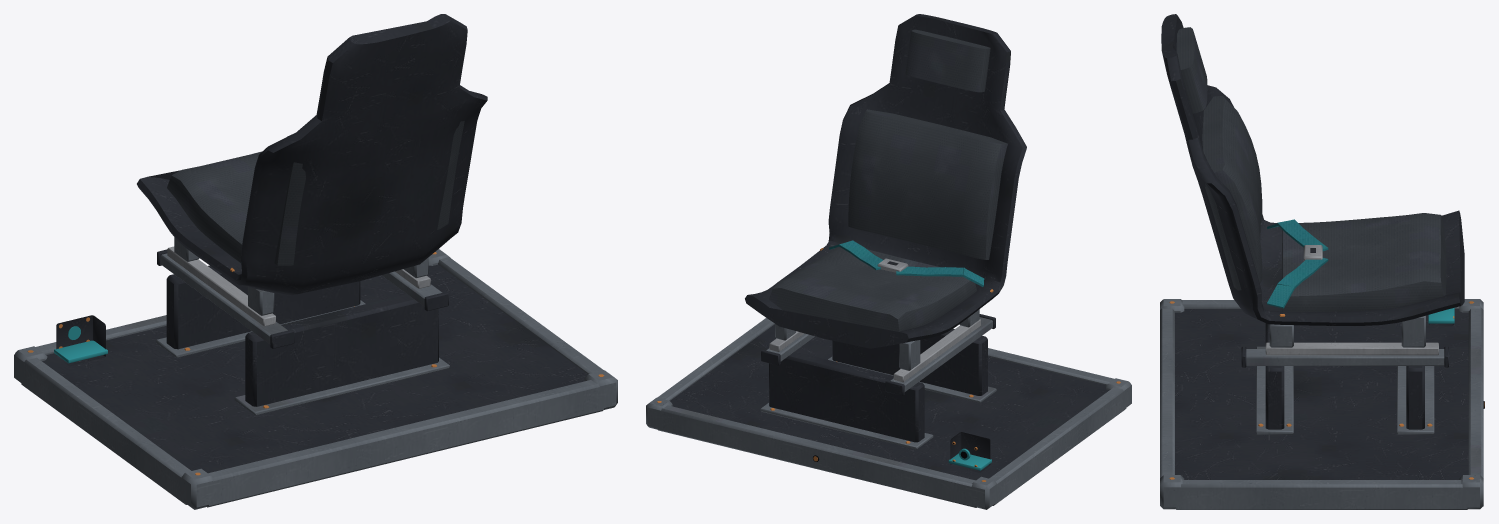
File: passenger_seat_1.glb
3 views of the same model, side by side, from view 1: azimuth 30°, elevation 25°; view 2: azimuth 150°, elevation 25°; view 3: azimuth 270°, elevation 25° (orthographic). The views are drawn at different scales.
Visible parts, largest first — view 1: Base, ShellFrame, Cushion, Backrest; view 2: Base, ShellFrame, Backrest, Cushion; view 3: Base, Cushion, ShellFrame, Backrest.
Part boxes in pixels (left/top/right/bottom): Base: left=14, top=246, right=617, bottom=509; ShellFrame: left=137, top=14, right=487, bottom=315; Cushion: left=167, top=151, right=262, bottom=262; Backrest: left=274, top=121, right=464, bottom=265; Base: left=646, top=314, right=1131, bottom=509; ShellFrame: left=745, top=14, right=1026, bottom=370; Backrest: left=848, top=29, right=1007, bottom=259; Cushion: left=769, top=240, right=984, bottom=331; Base: left=1160, top=299, right=1484, bottom=509; Cushion: left=1267, top=213, right=1446, bottom=311; ShellFrame: left=1161, top=14, right=1464, bottom=347; Backrest: left=1176, top=27, right=1262, bottom=290.
Size of the model in its own units: 0.94 by 0.901 by 0.6927.
8 materials, 6 textured.
